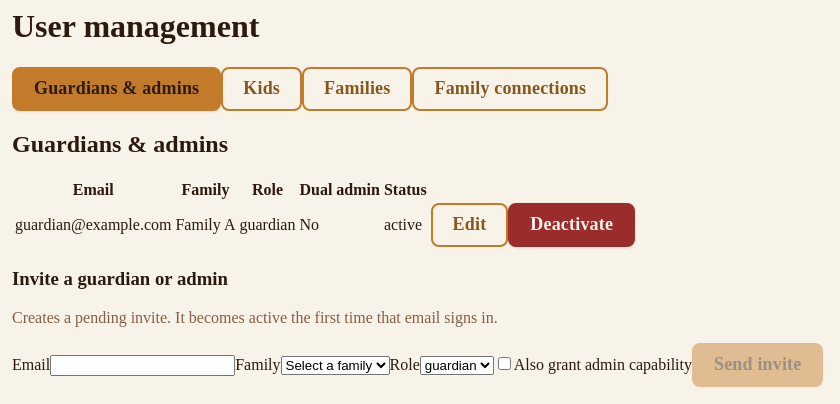
it: UserManagementPage › switches to the Kids tab and shows its data
This screenshot has width=840, height=404.
Expected: the text "guardian@example.com" is shown, [14,202,172,248]
Click the button "Kids": (262, 89) [221,67,302,111]
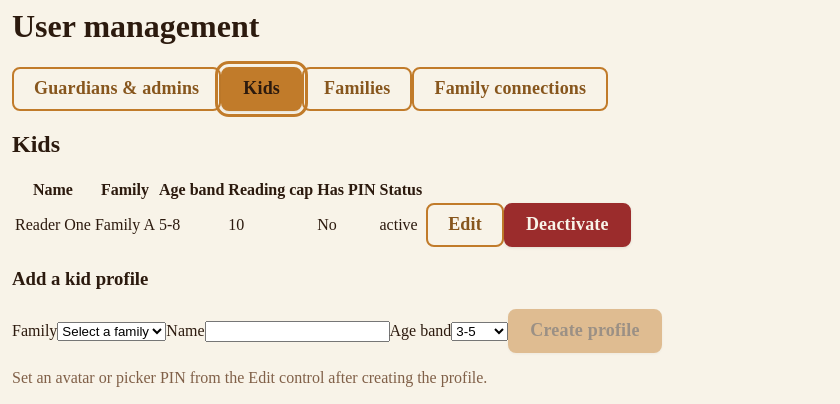
Now the text "Reader One" is shown, box [14,202,92,248]
